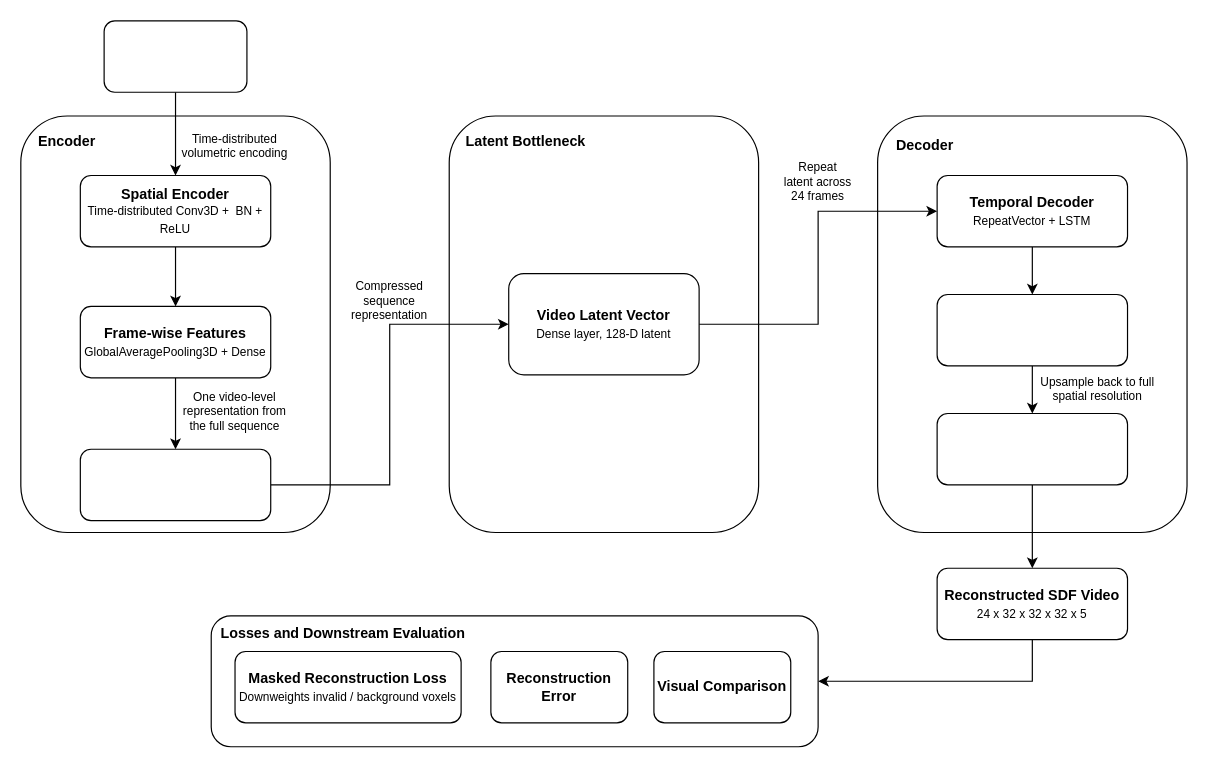
The diagram is 1208 pixels wide and 768 high, and some of its shapes have lost their labels. Each missing label, with the centre of its shape:
Decoded Frame Features Time-distributed Dense + Reshape to 4x4x4: [1032,329]
Input 4D SDF Video: [175,56]
Spatial Decoder Time-distributed Conv3DTranspose + BN + ReLU: [1032,448]
Temporal Encoder Bidirectional LSTM sequence aggregation: [175,484]
